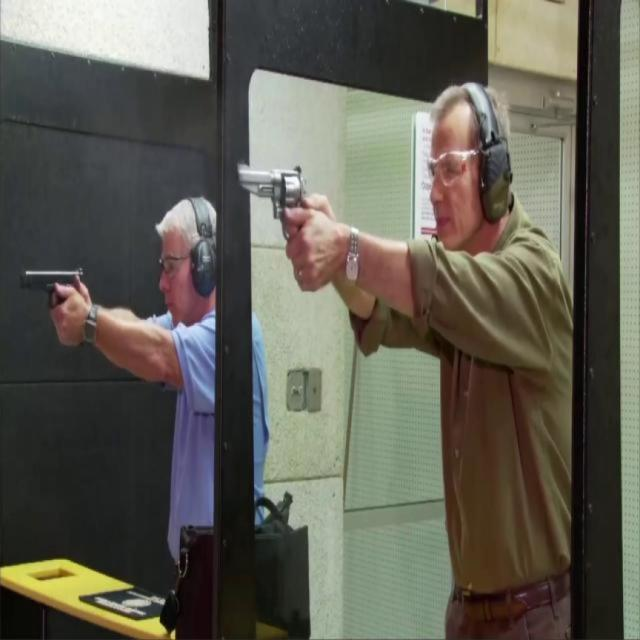pistol: (236, 158, 310, 248), (20, 266, 85, 349)
